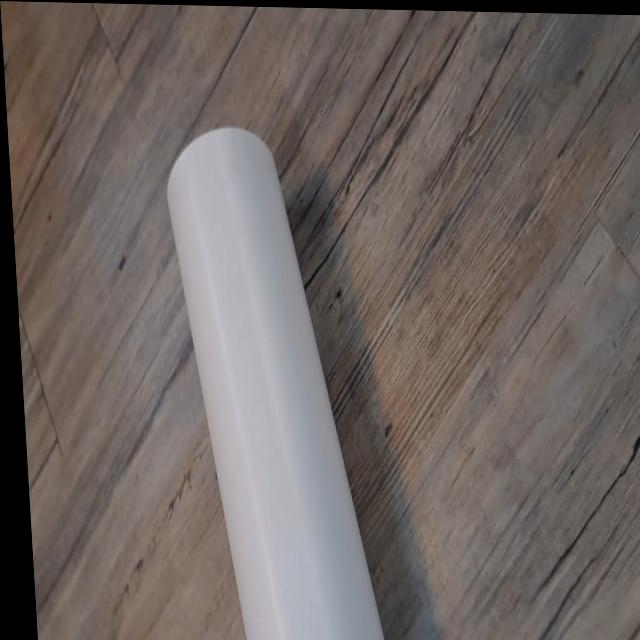CORAL: (146, 120, 395, 640)
